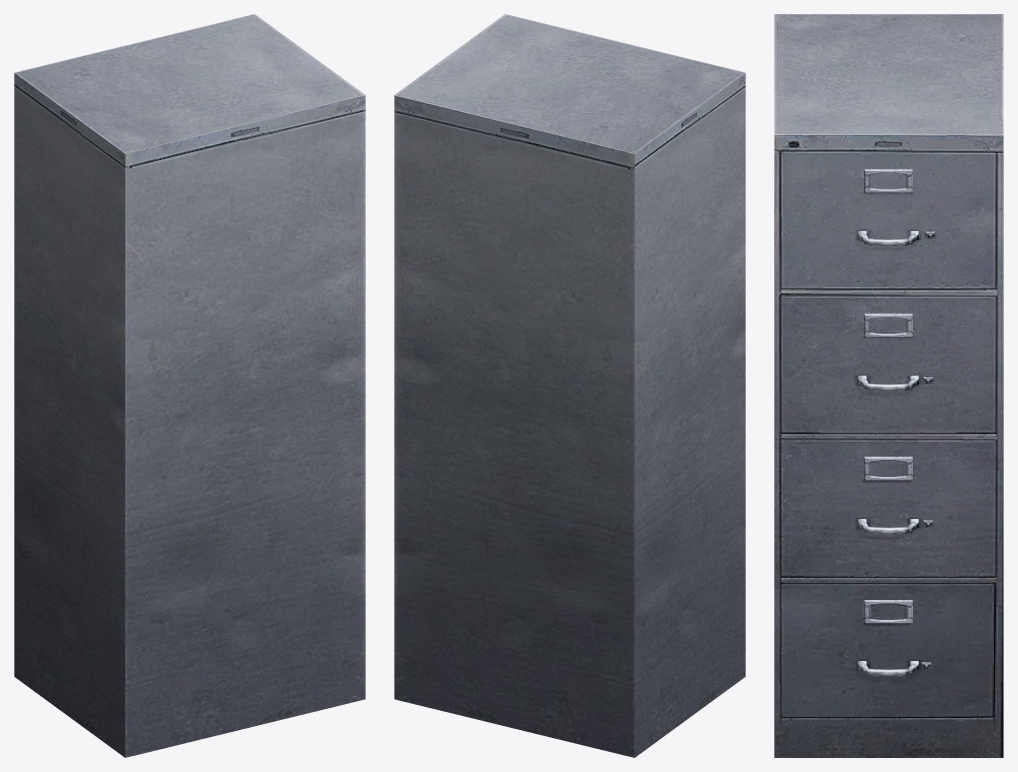
The model's file is file_cabinet1.glb.
The picture shows the model from 3 angles, left to right: view 1: azimuth 30°, elevation 25°; view 2: azimuth 150°, elevation 25°; view 3: azimuth 270°, elevation 25°; orthographic projection. The views are drawn at different scales.
Parts seen in each view (by area): view 1: 0_File_cabinet1; view 2: 0_File_cabinet1; view 3: 0_File_cabinet1.
Boxes of the visible parts, x1,y1,x2,y2 form: 0_File_cabinet1: [14, 14, 365, 757]; 0_File_cabinet1: [394, 14, 745, 757]; 0_File_cabinet1: [774, 14, 1003, 757].
Size of the model in its own units: 0.6956 by 1.6 by 0.5334.
1 material, 1 textured.
